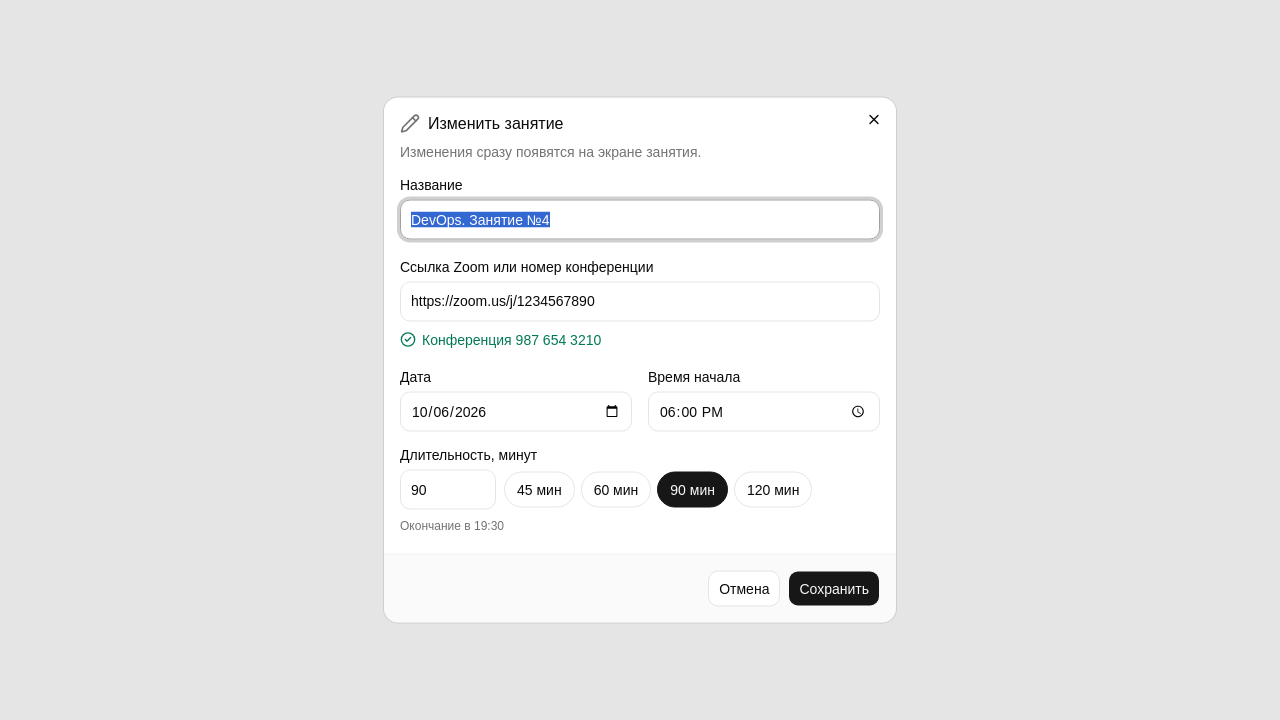
Test: EditLessonDialog › shows Russian validation and server errors next to the field
Clear the field labelled "Название" at (640, 220), box [400,200,880,240]
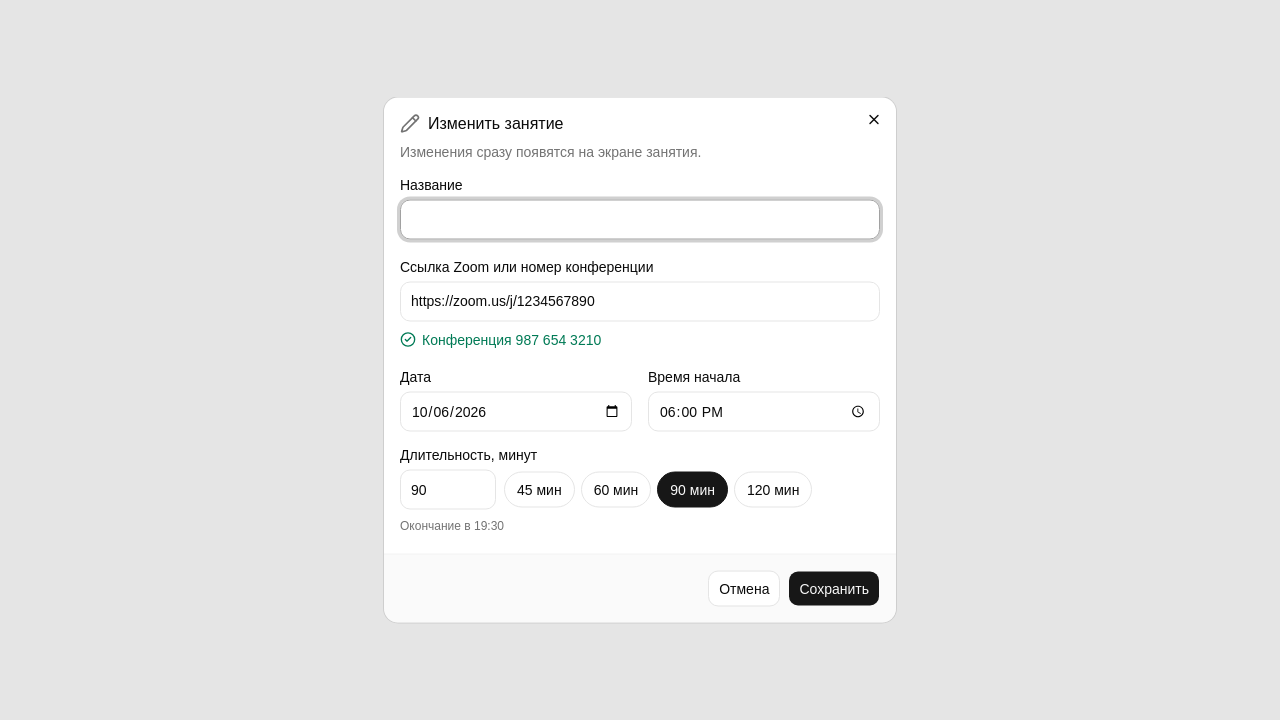
Click the button "Сохранить" at (834, 588), box [788,570,880,606]
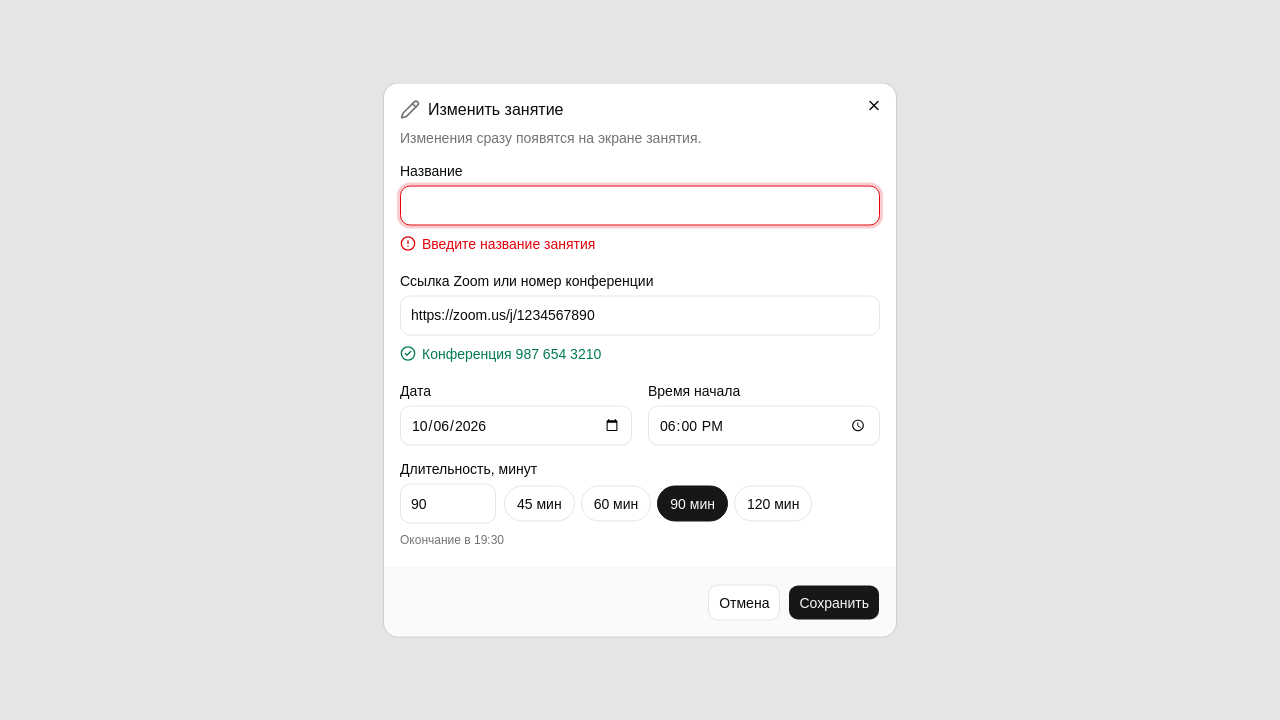
Result: the text "Введите название занятия" is shown at [422,234,595,254]
Type "Новое" into the field labelled "Название" at (640, 206), box [400,186,880,226]
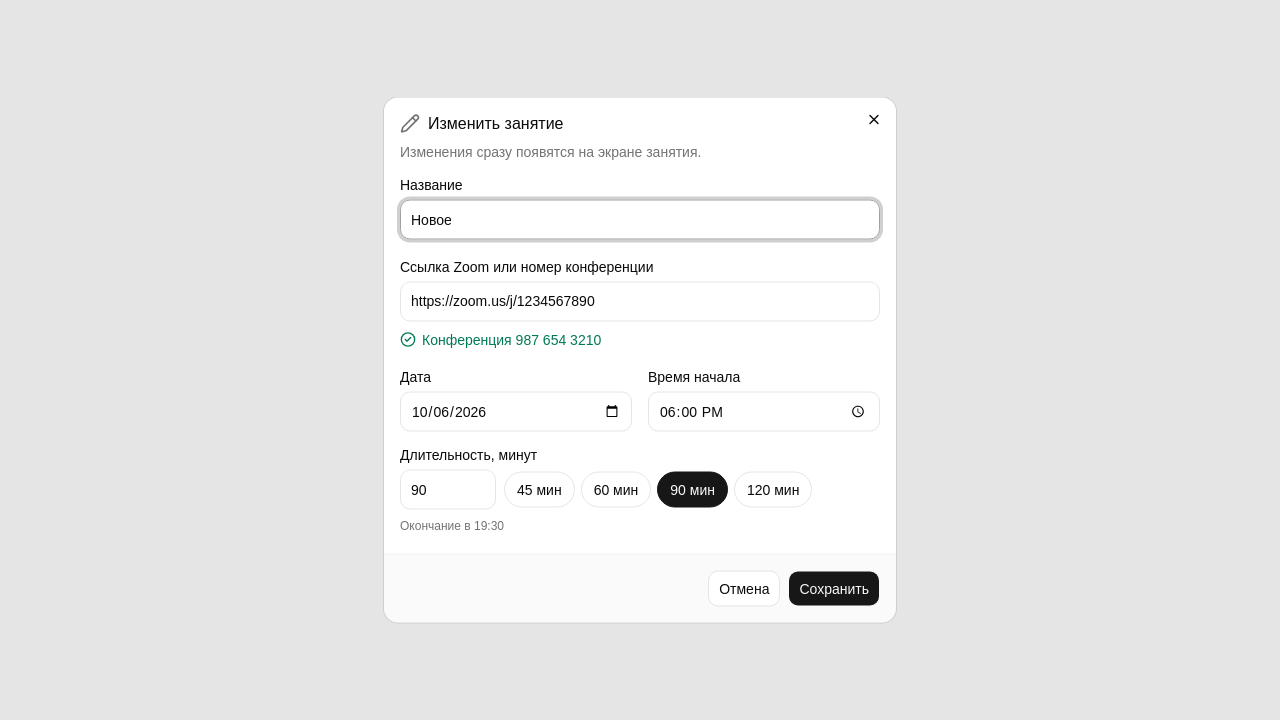
Click the button "Сохранить" at (834, 588), box [788,570,880,606]
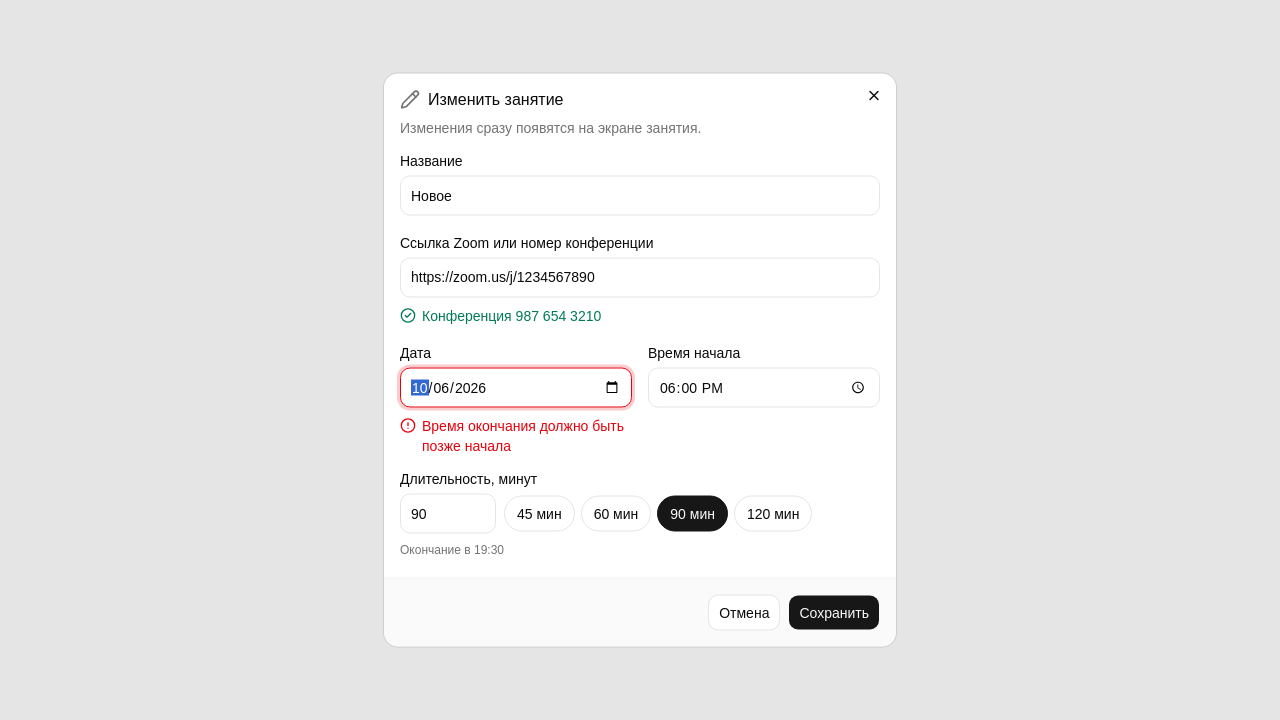
Result: the text "Время окончания должно быть позже начала" is shown at [422,416,632,456]
